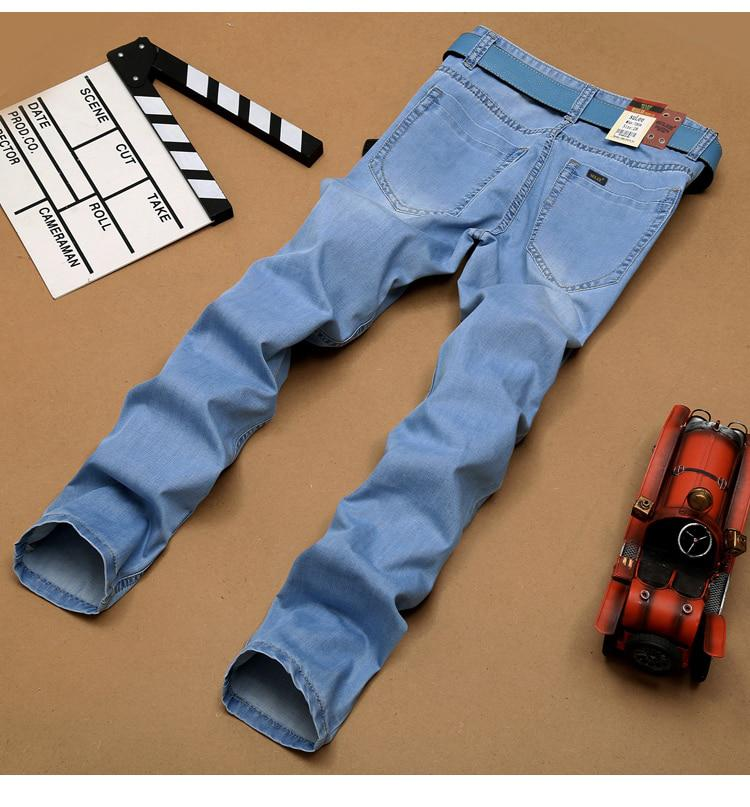jeans: (65, 31, 713, 656)
